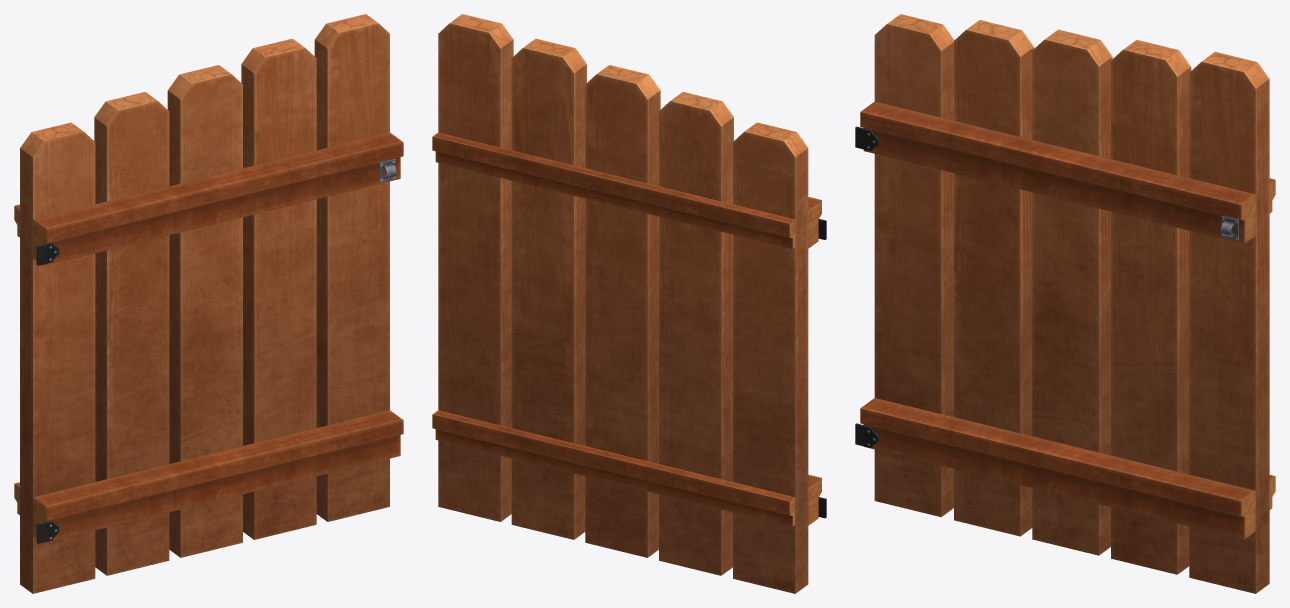
The model's file is Entrance 1 door left.fbx.
3 views of the same model, side by side, from view 1: azimuth 30°, elevation 25°; view 2: azimuth 150°, elevation 25°; view 3: azimuth 330°, elevation 25° (orthographic). The views are drawn at different scales.
Visible parts, largest first — view 1: Fence1_Gate_Left; view 2: Fence1_Gate_Left; view 3: Fence1_Gate_Left.
Boxes of the visible parts, box(x1,y1,x2,y2) form: Fence1_Gate_Left: box(14, 14, 403, 593); Fence1_Gate_Left: box(432, 14, 826, 593); Fence1_Gate_Left: box(855, 14, 1275, 593).
Bounding box in the file's own units: 87.09 × 111 × 13.91.
